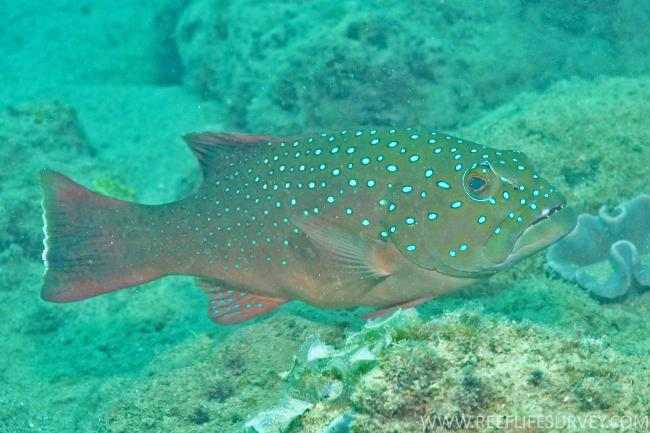fish: (39, 127, 578, 325)
